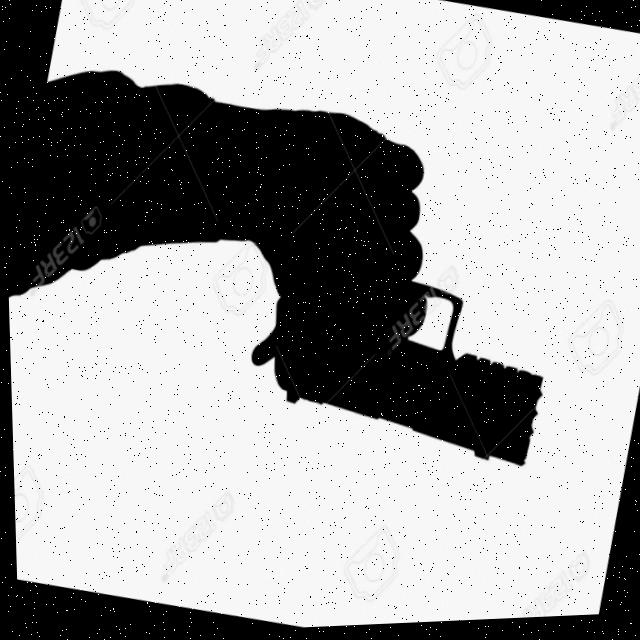pistol: (231, 250, 557, 482)
